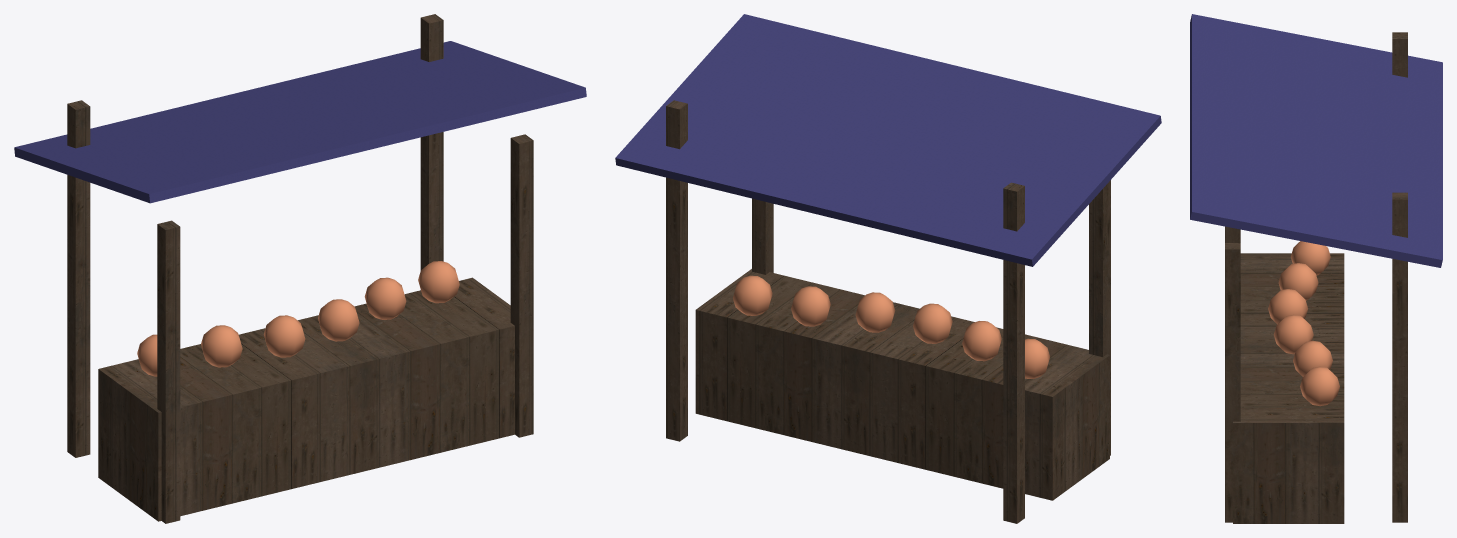
The model's file is market_stall_0.glb.
3 views of the same model, side by side, from view 1: azimuth 30°, elevation 25°; view 2: azimuth 150°, elevation 25°; view 3: azimuth 270°, elevation 25° (orthographic). The views are drawn at different scales.
Visible parts, largest first — view 1: market_stall_0; view 2: market_stall_0; view 3: market_stall_0.
Part boxes in pixels (<box>): market_stall_0: <box>14,14,586,523</box>; market_stall_0: <box>615,14,1161,523</box>; market_stall_0: <box>1190,14,1442,523</box>.
Bounding box in the file's own units: 4.2 × 3.23 × 2.27.
3 materials, 2 textured.
